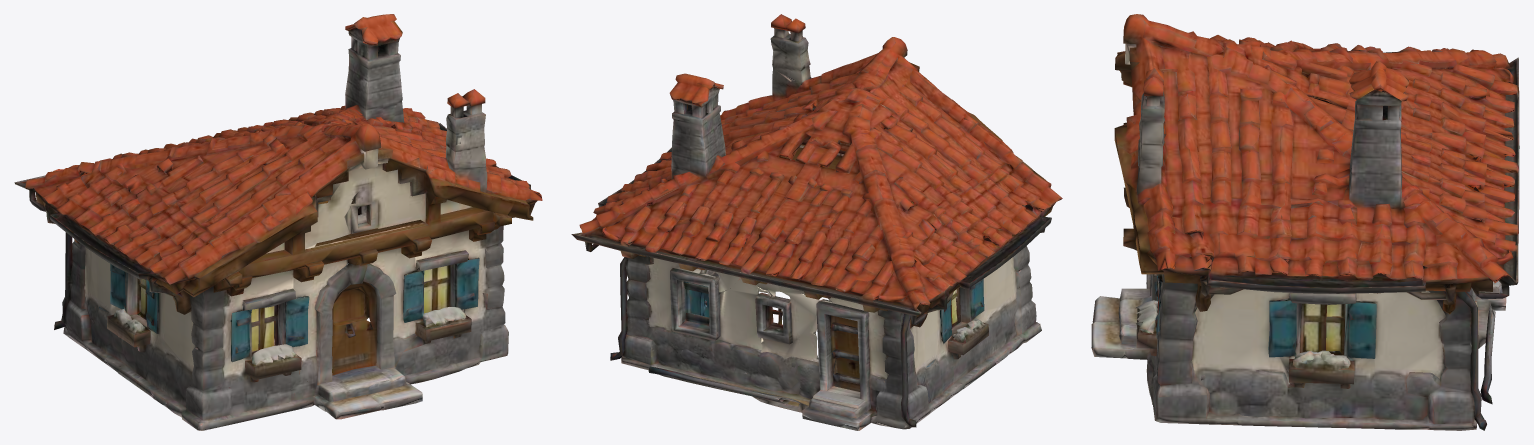
Rendered from candidate.glb.
3 renders of one model, left to right at view 1: azimuth 30°, elevation 25°; view 2: azimuth 150°, elevation 25°; view 3: azimuth 270°, elevation 25°, orthographic. The views are drawn at different scales.
Parts seen in each view (by area): view 1: alpine__tower_1__native_mobile; view 2: alpine__tower_1__native_mobile; view 3: alpine__tower_1__native_mobile.
Boxes of the visible parts, x1=… form: alpine__tower_1__native_mobile: x1=14, y1=14, x2=542, y2=430; alpine__tower_1__native_mobile: x1=571, y1=14, x2=1062, y2=430; alpine__tower_1__native_mobile: x1=1091, y1=14, x2=1519, y2=430.
Bounding box in the file's own units: 1 × 0.7025 × 0.796.
Materials: 1 (1 with a texture image).
